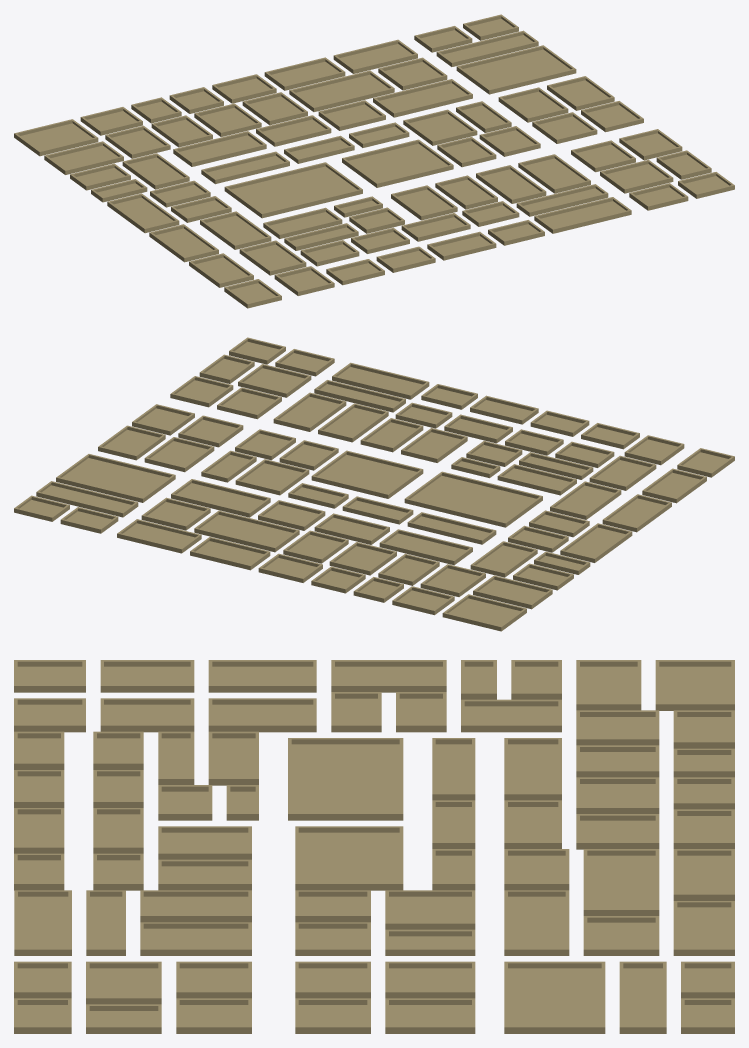
File: Sidewalks.fbx
3 renders of one model, top to bottom at view 1: azimuth 30°, elevation 25°; view 2: azimuth 150°, elevation 25°; view 3: azimuth 270°, elevation 25°, orthographic. The views are drawn at different scales.
Parts seen in each view (by area): view 1: Cube.052, Cube.196, Cube.220, Cube.272, Cube.277, Cube.240, Cube.234, Cube.261, Cube.287, Cube.276, Cube.222, Cube.278 (+59 smaller); view 2: Cube.052, Cube.196, Cube.220, Cube.272, Cube.277, Cube.240, Cube.234, Cube.261, Cube.287, Cube.276, Cube.222, Cube.278 (+59 smaller); view 3: Cube.052, Cube.196, Cube.220, Cube.272, Cube.277, Cube.234, Cube.240, Cube.222, Cube.296, Cube.227, Cube.242, Cube.261 (+59 smaller).
Boxes of the visible parts, left/top/right/bottom form: Cube.052: left=224, top=162, right=362, bottom=218; Cube.196: left=456, top=45, right=576, bottom=94; Cube.220: left=342, top=139, right=453, bottom=187; Cube.272: left=289, top=70, right=394, bottom=111; Cube.277: left=373, top=79, right=472, bottom=117; Cube.240: left=534, top=197, right=631, bottom=233; Cube.234: left=14, top=119, right=98, bottom=156; Cube.261: left=173, top=131, right=266, bottom=166; Cube.287: left=436, top=30, right=538, bottom=66; Cube.276: left=333, top=39, right=417, bottom=73; Cube.222: left=518, top=154, right=590, bottom=193; Cube.278: left=403, top=109, right=477, bottom=145; Cube.052: left=404, top=471, right=542, bottom=527; Cube.196: left=56, top=454, right=175, bottom=502; Cube.220: left=311, top=450, right=423, bottom=498; Cube.272: left=194, top=510, right=299, bottom=552; Cube.277: left=171, top=479, right=270, bottom=517; Cube.240: left=332, top=362, right=429, bottom=399; Cube.234: left=442, top=594, right=526, bottom=631; Cube.261: left=379, top=529, right=472, bottom=565; Cube.287: left=36, top=481, right=138, bottom=517; Cube.276: left=117, top=519, right=201, bottom=553; Cube.222: left=273, top=392, right=346, bottom=431; Cube.278: left=235, top=459, right=309, bottom=495; Cube.052: left=288, top=738, right=403, bottom=820; Cube.196: left=504, top=961, right=605, bottom=1033; Cube.220: left=295, top=826, right=403, bottom=890; Cube.272: left=583, top=849, right=659, bottom=915; Cube.277: left=504, top=890, right=569, bottom=955; Cube.234: left=655, top=660, right=734, bottom=710; Cube.240: left=14, top=890, right=71, bottom=955; Cube.222: left=140, top=922, right=251, bottom=955; Cube.296: left=208, top=698, right=316, bottom=732; Cube.227: left=331, top=660, right=446, bottom=692; Cube.242: left=140, top=890, right=251, bottom=922; Cube.261: left=504, top=738, right=561, bottom=800.
Bounding box in the file's own units: 241 × 2 × 200.
